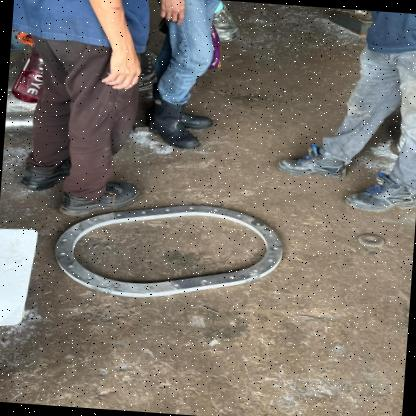bota: (145, 84, 222, 154), (52, 176, 152, 219), (272, 139, 352, 183), (343, 169, 416, 215), (16, 158, 78, 195)
